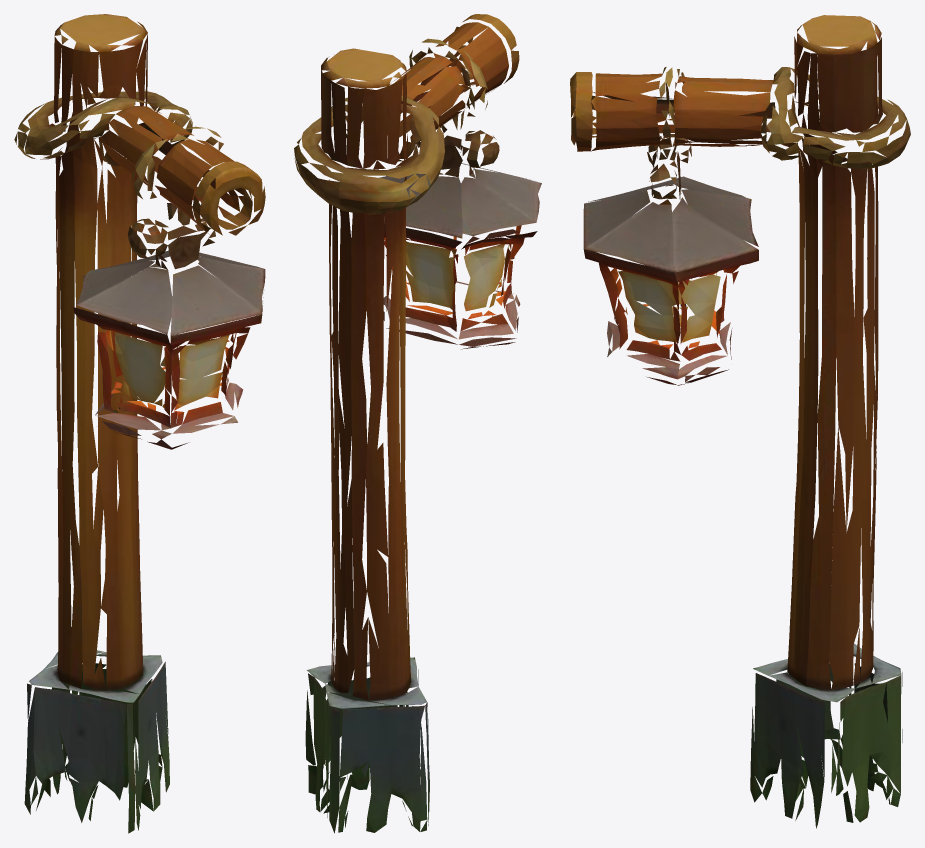
File: lamp_post.glb
3 renders of one model, left to right at view 1: azimuth 30°, elevation 25°; view 2: azimuth 150°, elevation 25°; view 3: azimuth 270°, elevation 25°, orthographic. The views are drawn at different scales.
Parts seen in each view (by area): view 1: world.001; view 2: world.001; view 3: world.001.
Part boxes in pixels (x1,y1,x2,y2): world.001: (14,14,265,833); world.001: (294,14,541,833); world.001: (570,15,910,828).
Size of the model in its own units: 0.2547 by 1 by 0.3993.
1 material, 1 textured.
